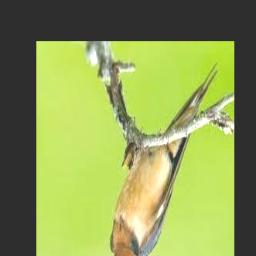Swallow: (110, 63, 219, 256)
